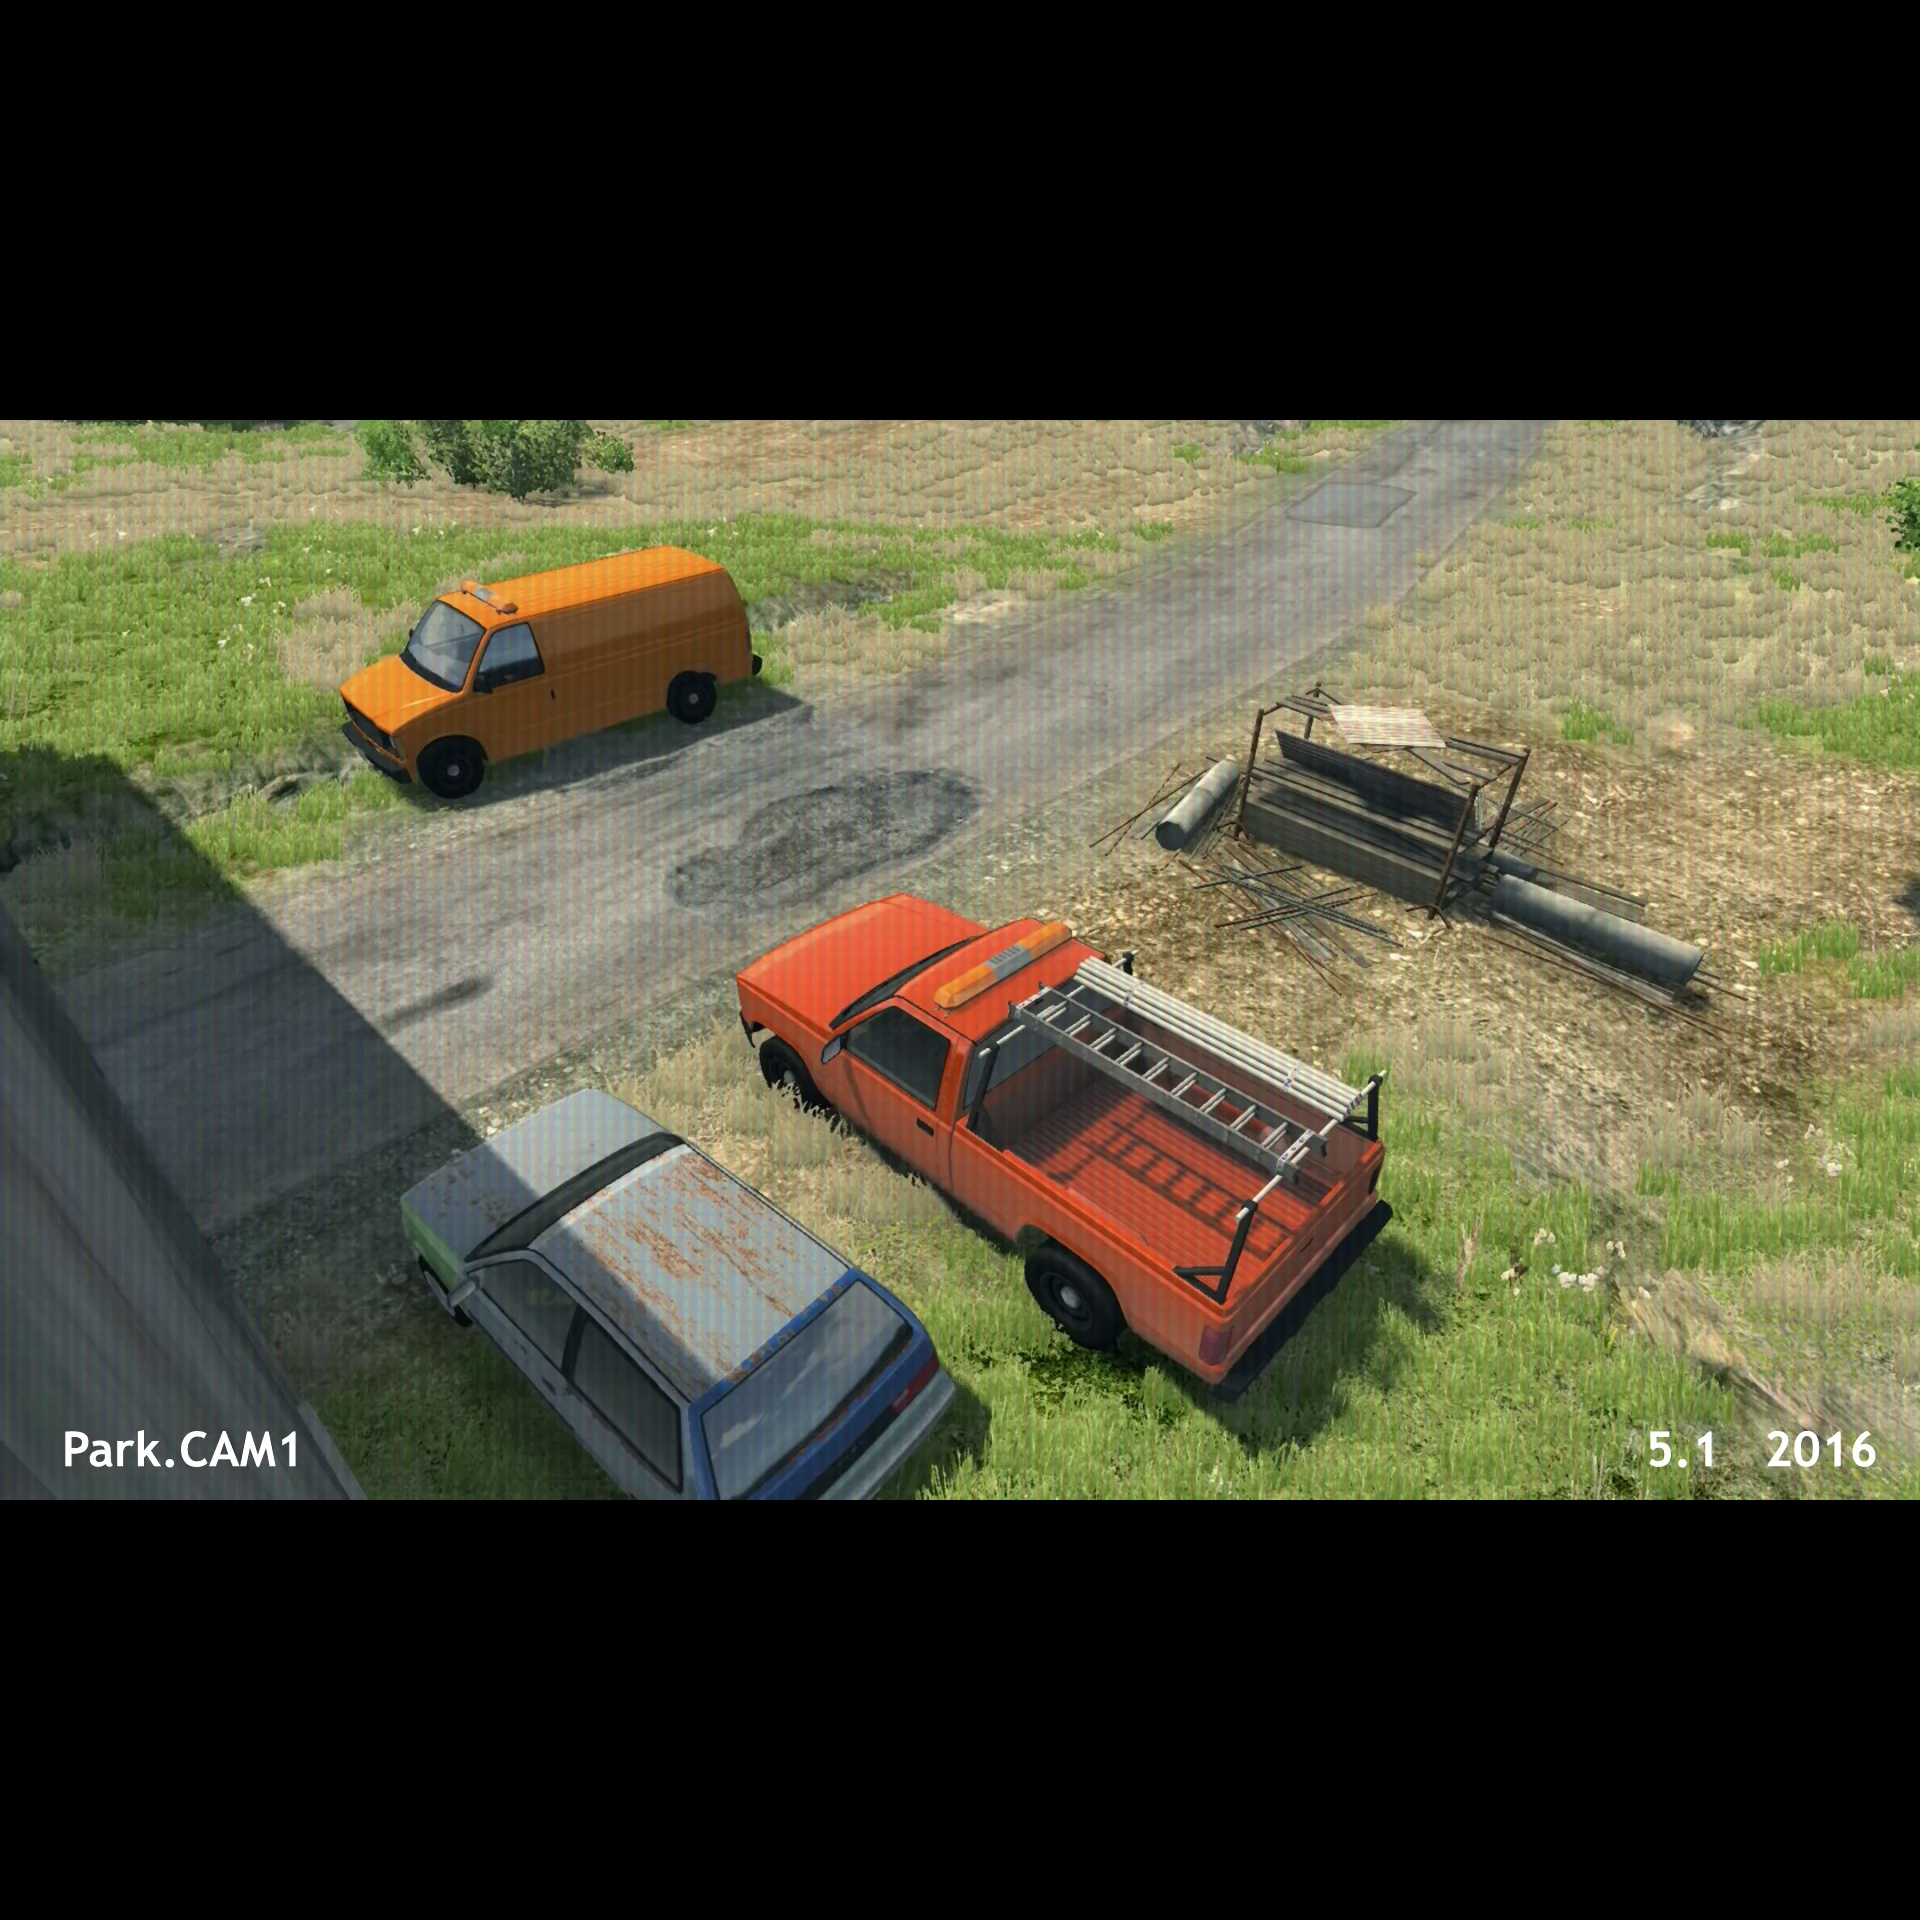vehicle: (723, 884, 1401, 1398), (385, 1076, 969, 1500), (322, 533, 774, 807)
